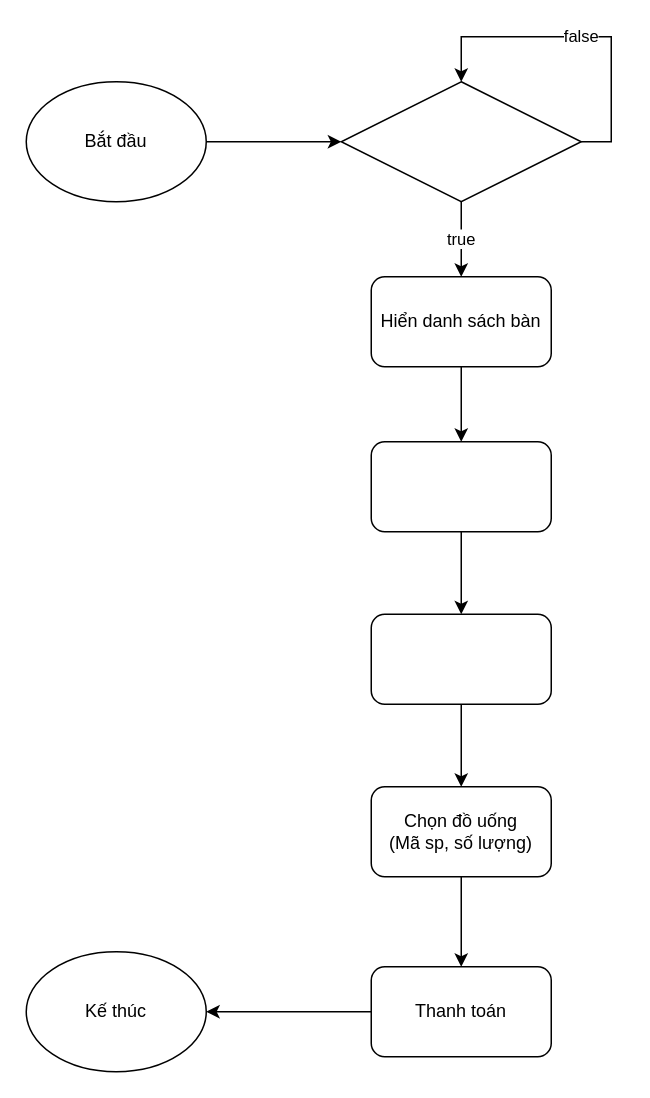
Some shapes in this 650 by 1098 pixel diagram are drawn without their labels. Here are the shapes that lost their labels. From the top down, the box of each, then its label:
(340, 80, 581, 202): Đăng nhập (email, password)
(370, 440, 551, 532): Chọn bàn (Nhập tên bàn)
(370, 613, 551, 704): Order (Hiển thị danh sách menu)
